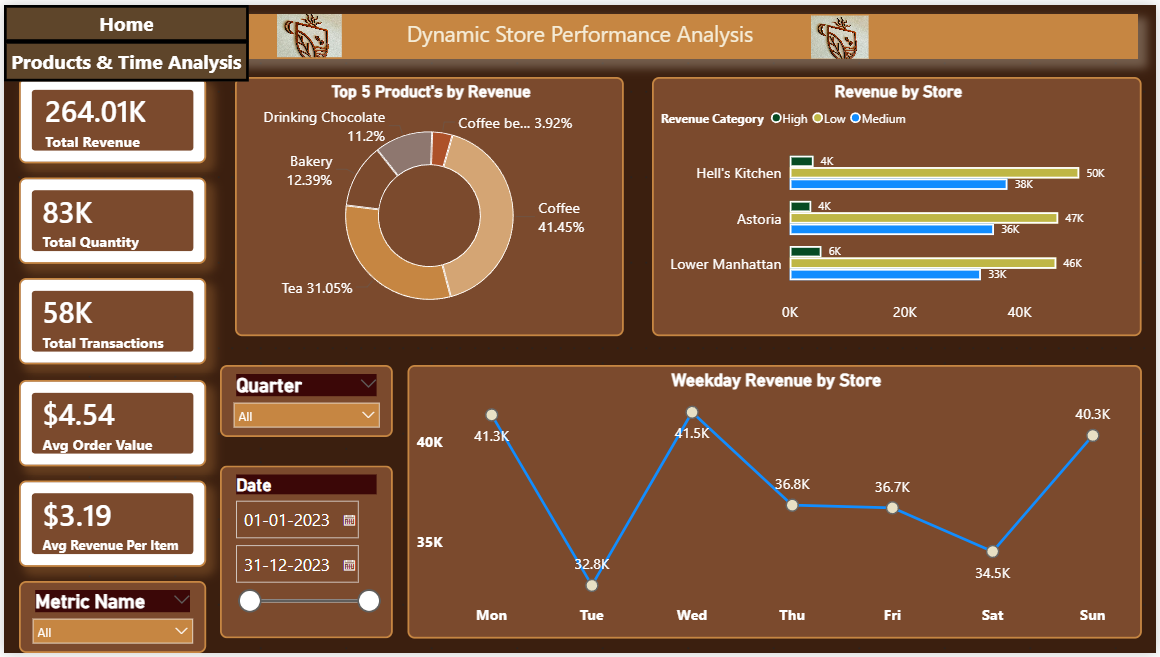

The dashboard page shown, as its layout file describes it:
{"tool":"powerbi","page":{"name":"Store Performance","canvas":[1280,720],"ordinal":1},"visuals":[{"type":"cardVisual","fields":{"Data":["KPI_Measures.Total Revenue"]},"box":[16,80,208,96],"z":0},{"type":"cardVisual","fields":{"Data":["KPI_Measures.Total Quantity"]},"box":[16,192,208,96],"z":1000},{"type":"cardVisual","fields":{"Data":["KPI_Measures.Avg Order Value"]},"box":[16,416,208,96],"z":2000},{"type":"cardVisual","fields":{"Data":["KPI_Measures.Total Transactions"]},"box":[16,304,208,96],"z":3000},{"type":"clusteredBarChart","fields":{"Category":["Store_Master.Store Location"],"Y":["other_Measures.Dynamic KPI"],"Series":["Coffee_shop_sales.Revenue Category"]},"box":[720,80,544,288],"z":4000},{"type":"lineChart","fields":{"Category":["Date_Table.Year Hierarchy.Day Name"],"Y":["other_Measures.Dynamic KPI"]},"box":[448,400,816,304],"z":5000},{"type":"donutChart","fields":{"Category":["Coffee_shop_sales.Product category"],"Y":["other_Measures.Dynamic KPI"]},"box":[256,80,432,288],"z":6000},{"type":"textbox","box":[272,0,1008,64],"z":7000},{"type":"slicer","fields":{"Values":["Date_Table.Quarter"]},"box":[240,400,192,80],"z":8000},{"type":"slicer","fields":{"Values":["Metrics.Metric Name"]},"box":[16,640,208,80],"z":9000},{"type":"image","box":[272,0,80,64],"z":10000},{"type":"image","box":[1200,0,80,64],"z":11000},{"type":"cardVisual","fields":{"Data":["KPI_Measures.Avg Revenue Per Item"]},"box":[16,528,208,96],"z":13000},{"type":"actionButton","box":[0,0,272,41],"z":14000},{"type":"actionButton","box":[0,40,272,45],"z":15000},{"type":"slicer","fields":{"Values":["Date_Table.Date"]},"box":[240,512,192,192],"z":16000}]}

Visuals, with their boxes in screenshot pixels (x1, y1, x2, y2), scaled from the page's 1280x720 canvas onto the 1160x657 screenshot:
cardVisual - KPI_Measures.Total Revenue: locate(14, 73, 203, 161)
cardVisual - KPI_Measures.Total Quantity: locate(14, 175, 203, 263)
cardVisual - KPI_Measures.Avg Order Value: locate(14, 380, 203, 467)
cardVisual - KPI_Measures.Total Transactions: locate(14, 277, 203, 365)
clusteredBarChart - Store_Master.Store Location x other_Measures.Dynamic KPI: locate(652, 73, 1146, 336)
lineChart - Date_Table.Year Hierarchy.Day Name x other_Measures.Dynamic KPI: locate(406, 365, 1146, 642)
donutChart - Coffee_shop_sales.Product category x other_Measures.Dynamic KPI: locate(232, 73, 624, 336)
textbox: locate(246, 0, 1159, 58)
slicer - Date_Table.Quarter: locate(218, 365, 392, 438)
slicer - Metrics.Metric Name: locate(14, 584, 203, 656)
image: locate(246, 0, 319, 58)
image: locate(1088, 0, 1159, 58)
cardVisual - KPI_Measures.Avg Revenue Per Item: locate(14, 482, 203, 569)
actionButton: locate(0, 0, 246, 37)
actionButton: locate(0, 36, 246, 78)
slicer - Date_Table.Date: locate(218, 467, 392, 642)
